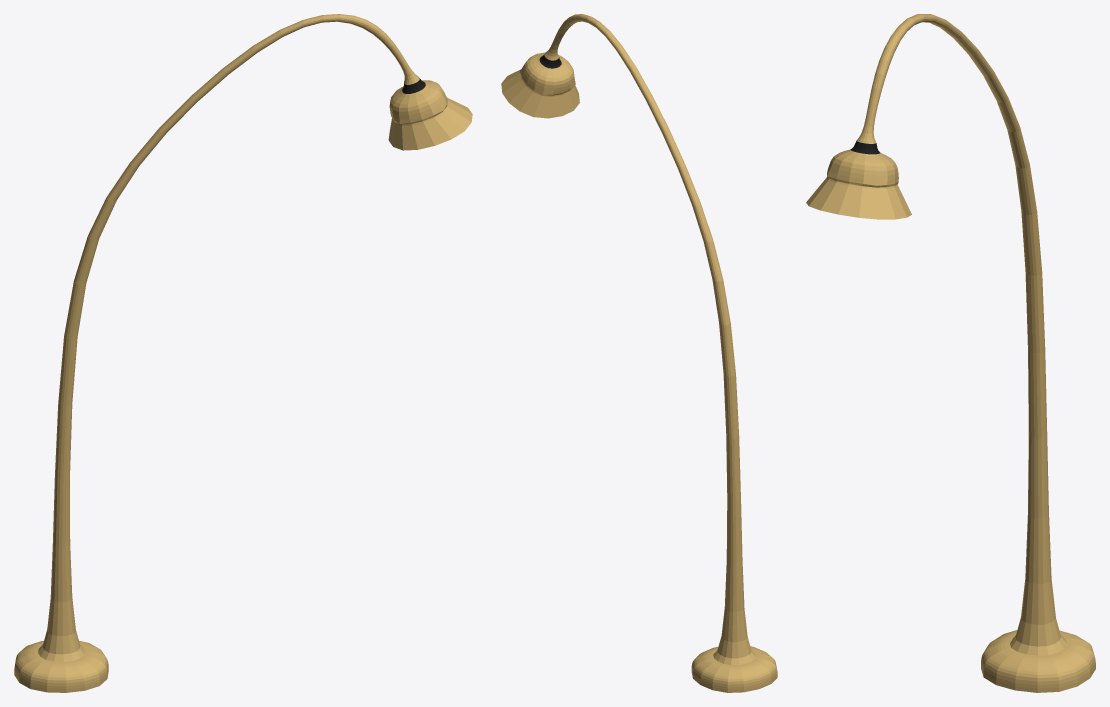
Rendered from LAmp.fbx.
3 renders of one model, left to right at view 1: azimuth 30°, elevation 25°; view 2: azimuth 150°, elevation 25°; view 3: azimuth 270°, elevation 25°, orthographic. The views are drawn at different scales.
Parts seen in each view (by area): view 1: Cube; view 2: Cube; view 3: Cube.
Part boxes in pixels (x1,y1,x2,y2): Cube: [14, 14, 472, 692]; Cube: [501, 14, 777, 692]; Cube: [806, 14, 1095, 692].
Bounding box in the file's own units: 148 × 245 × 83.33.
